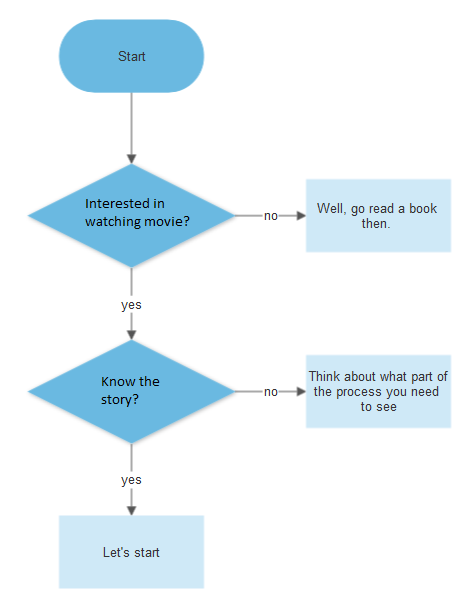arrow: (123, 265, 141, 340), (232, 383, 307, 398), (124, 91, 139, 165), (233, 210, 310, 222), (125, 440, 137, 514)
decision: (23, 338, 240, 446), (26, 163, 240, 270)
process: (56, 511, 208, 593), (305, 177, 454, 255), (302, 352, 454, 428)
terminator: (56, 17, 207, 96)
text: (308, 367, 449, 414), (314, 199, 442, 232), (82, 196, 192, 233), (96, 372, 162, 408), (101, 543, 161, 561), (117, 47, 148, 63), (119, 471, 146, 489), (120, 300, 143, 313), (261, 384, 280, 399), (262, 208, 278, 223)
